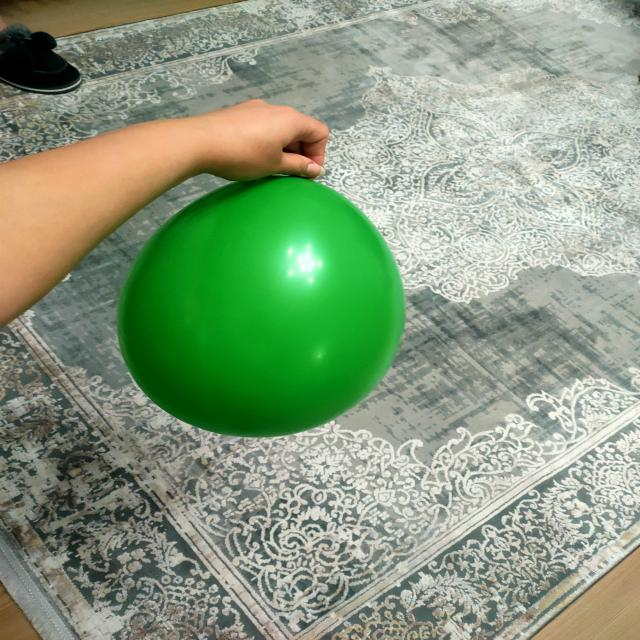green: (123, 175, 406, 440)
